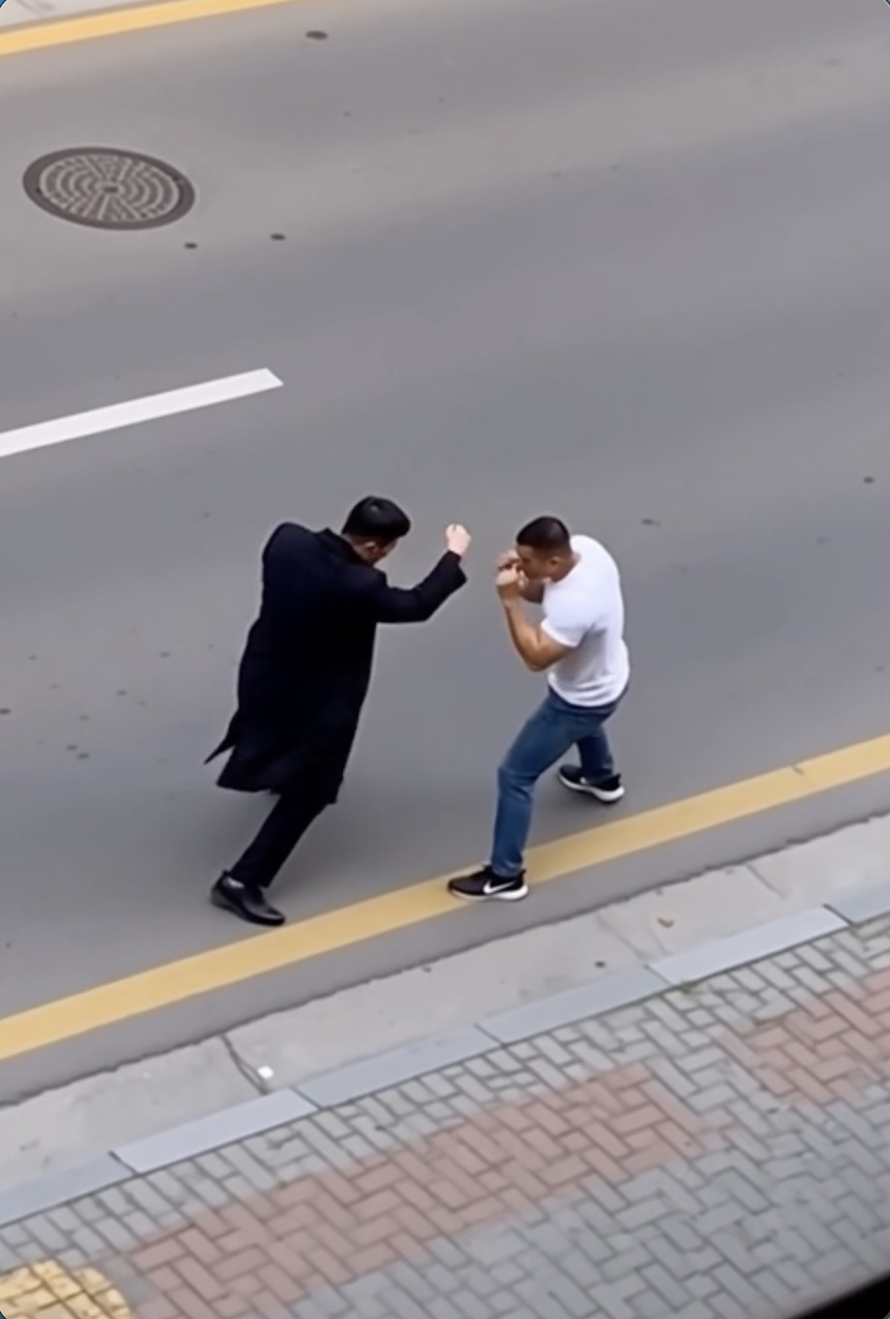Assault: (447, 515, 631, 901)
Fighting: (204, 496, 472, 930)
